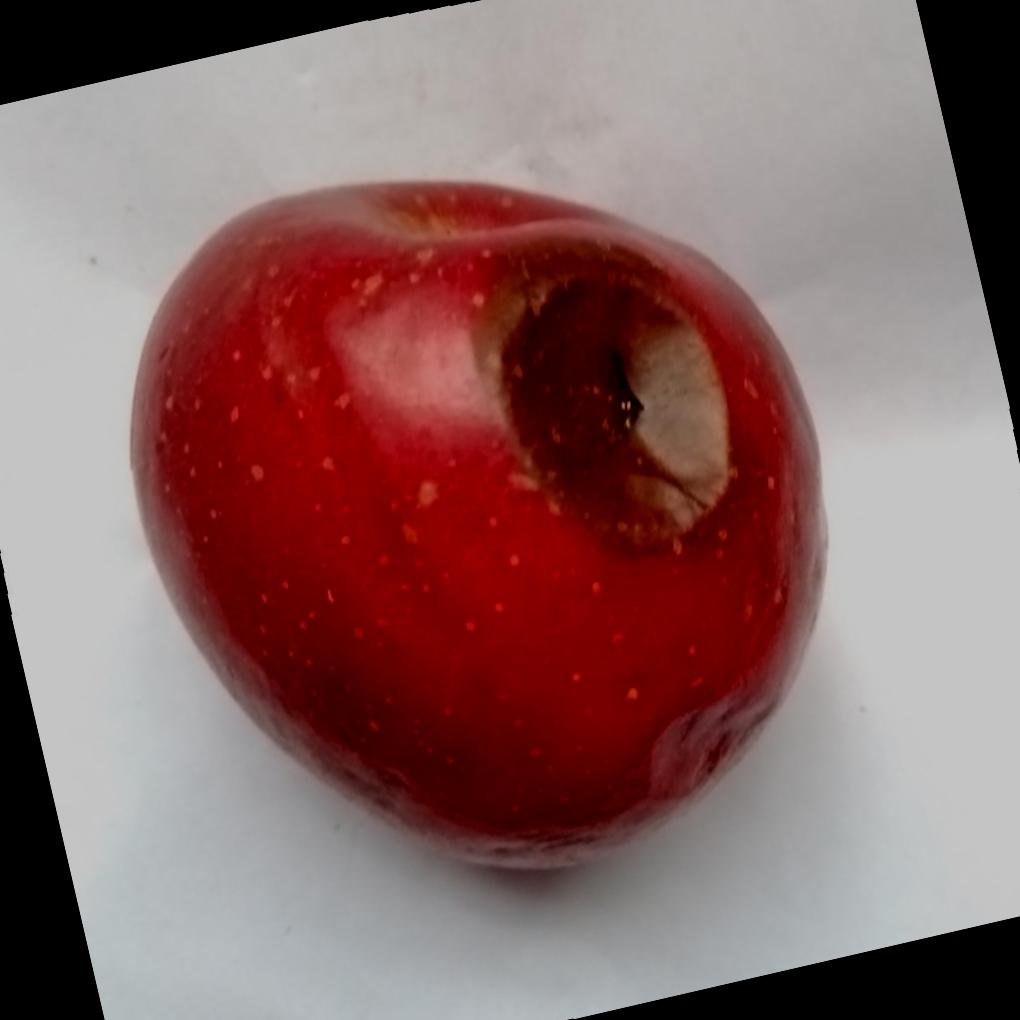FreshOrange: (128, 180, 828, 876)
